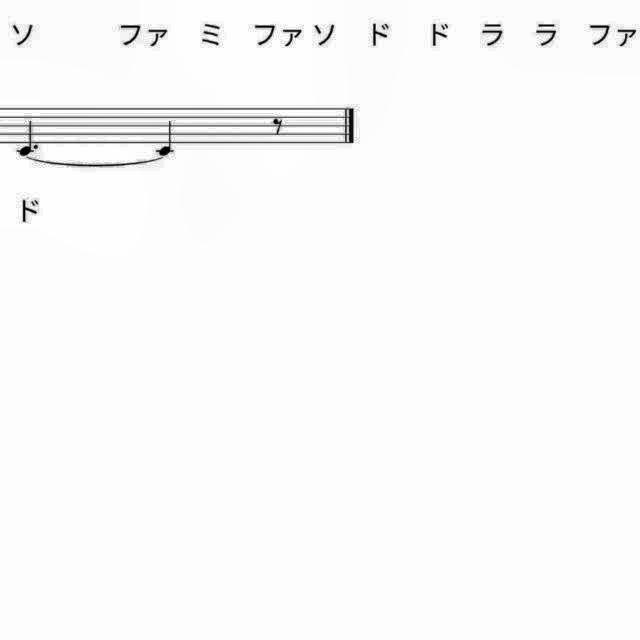Eighth-rest: (268, 114, 288, 140)
Quarter-dot: (11, 116, 45, 160)
Quarter-note: (152, 118, 182, 158)
